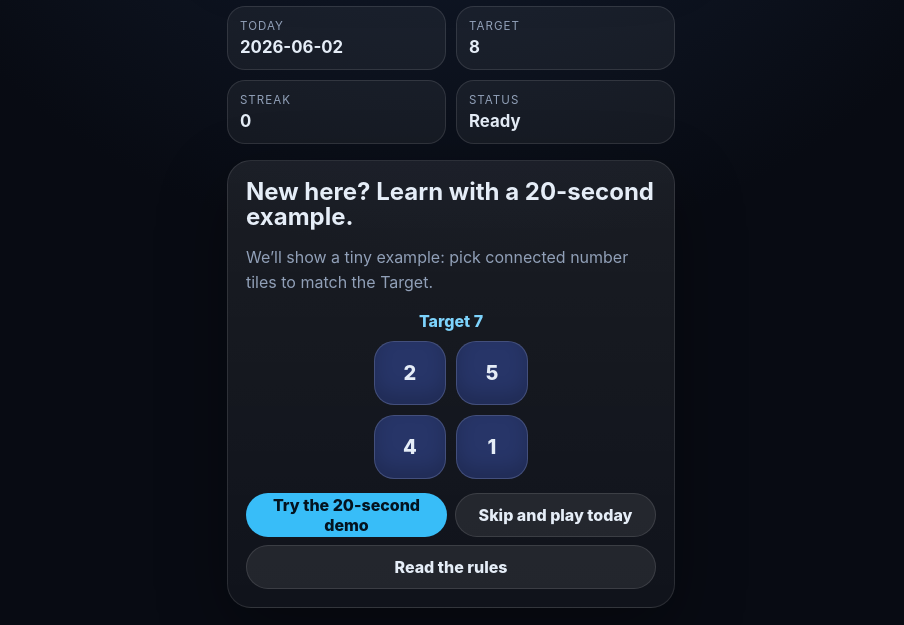
Test: App onboarding and language behavior › keeps replay demo Skip inside rules instead of treating it like first-run onboarding skip
The width and height of the screenshot is (904, 625).
(page scrolled)
Click the button "Read the rules" at (451, 567), box top-left (246, 545), bottom-right (656, 589)
(page scrolled)
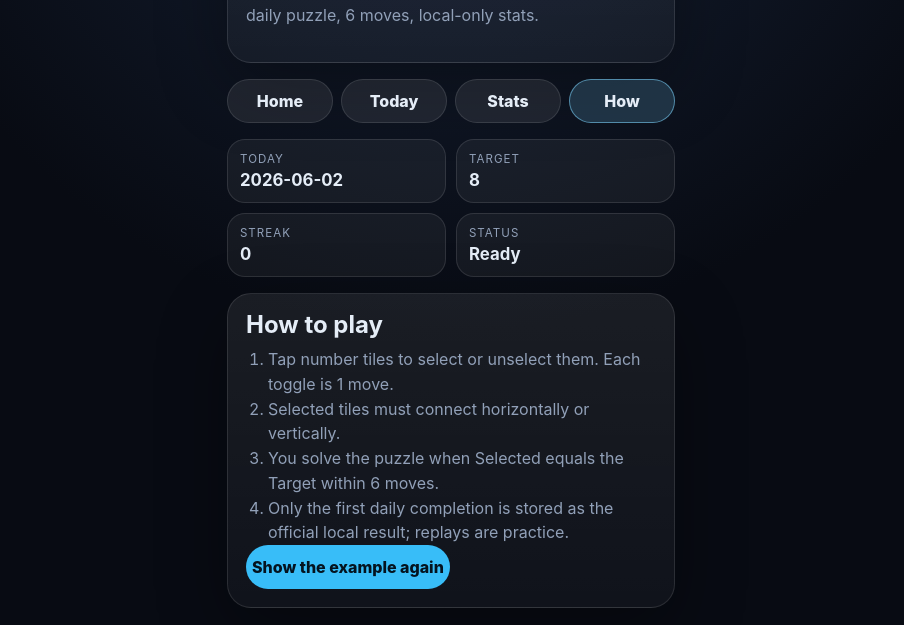
Expected: the heading "How to play" is shown, top-left (246, 310), bottom-right (383, 339)
Click the button "Show the example again" at (348, 567), box top-left (246, 545), bottom-right (450, 589)
(page scrolled)
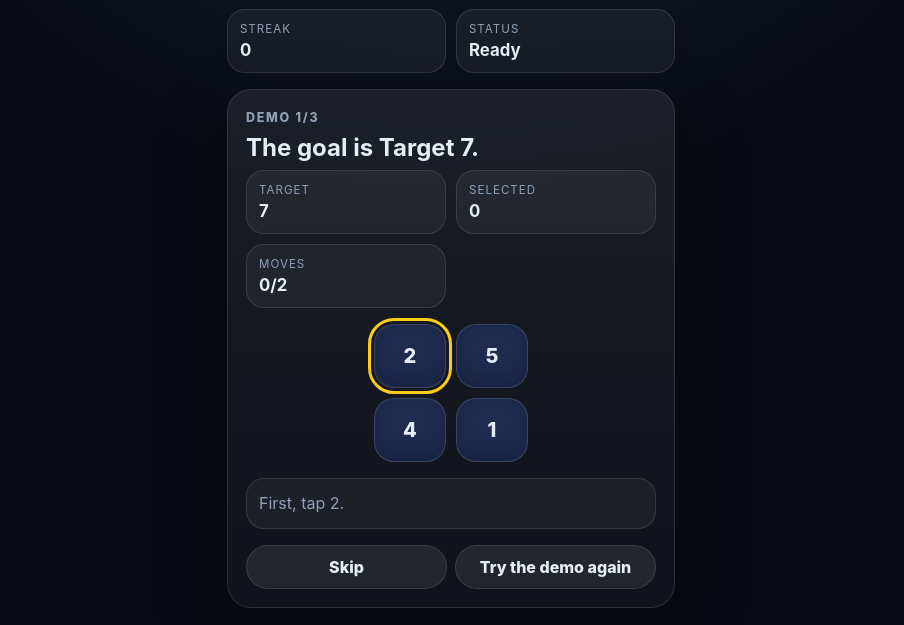
Click the button "Skip" at (346, 567), box top-left (246, 545), bottom-right (447, 589)
(page scrolled)
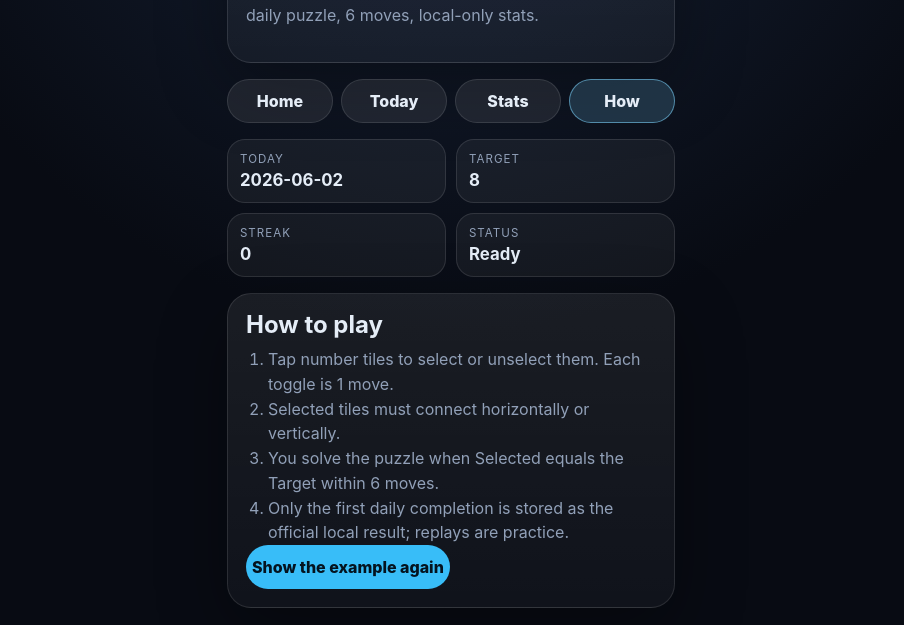
Expected: the heading "How to play" is shown, top-left (246, 310), bottom-right (383, 339)
